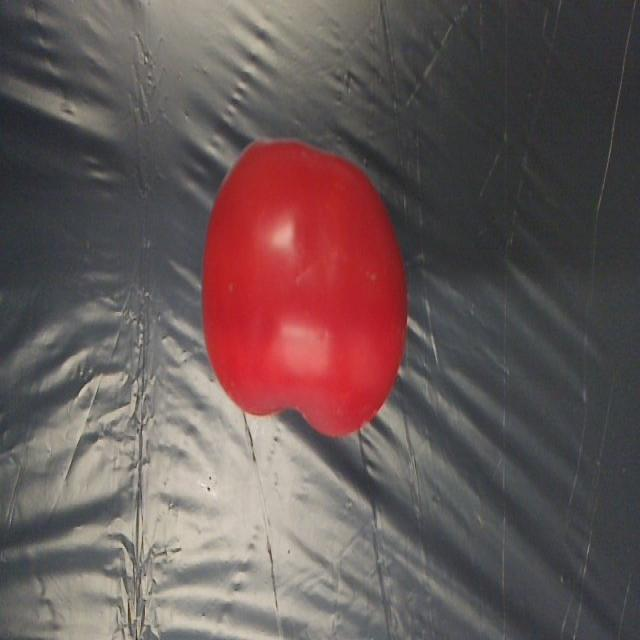kirmizi: (193, 114, 427, 453)
